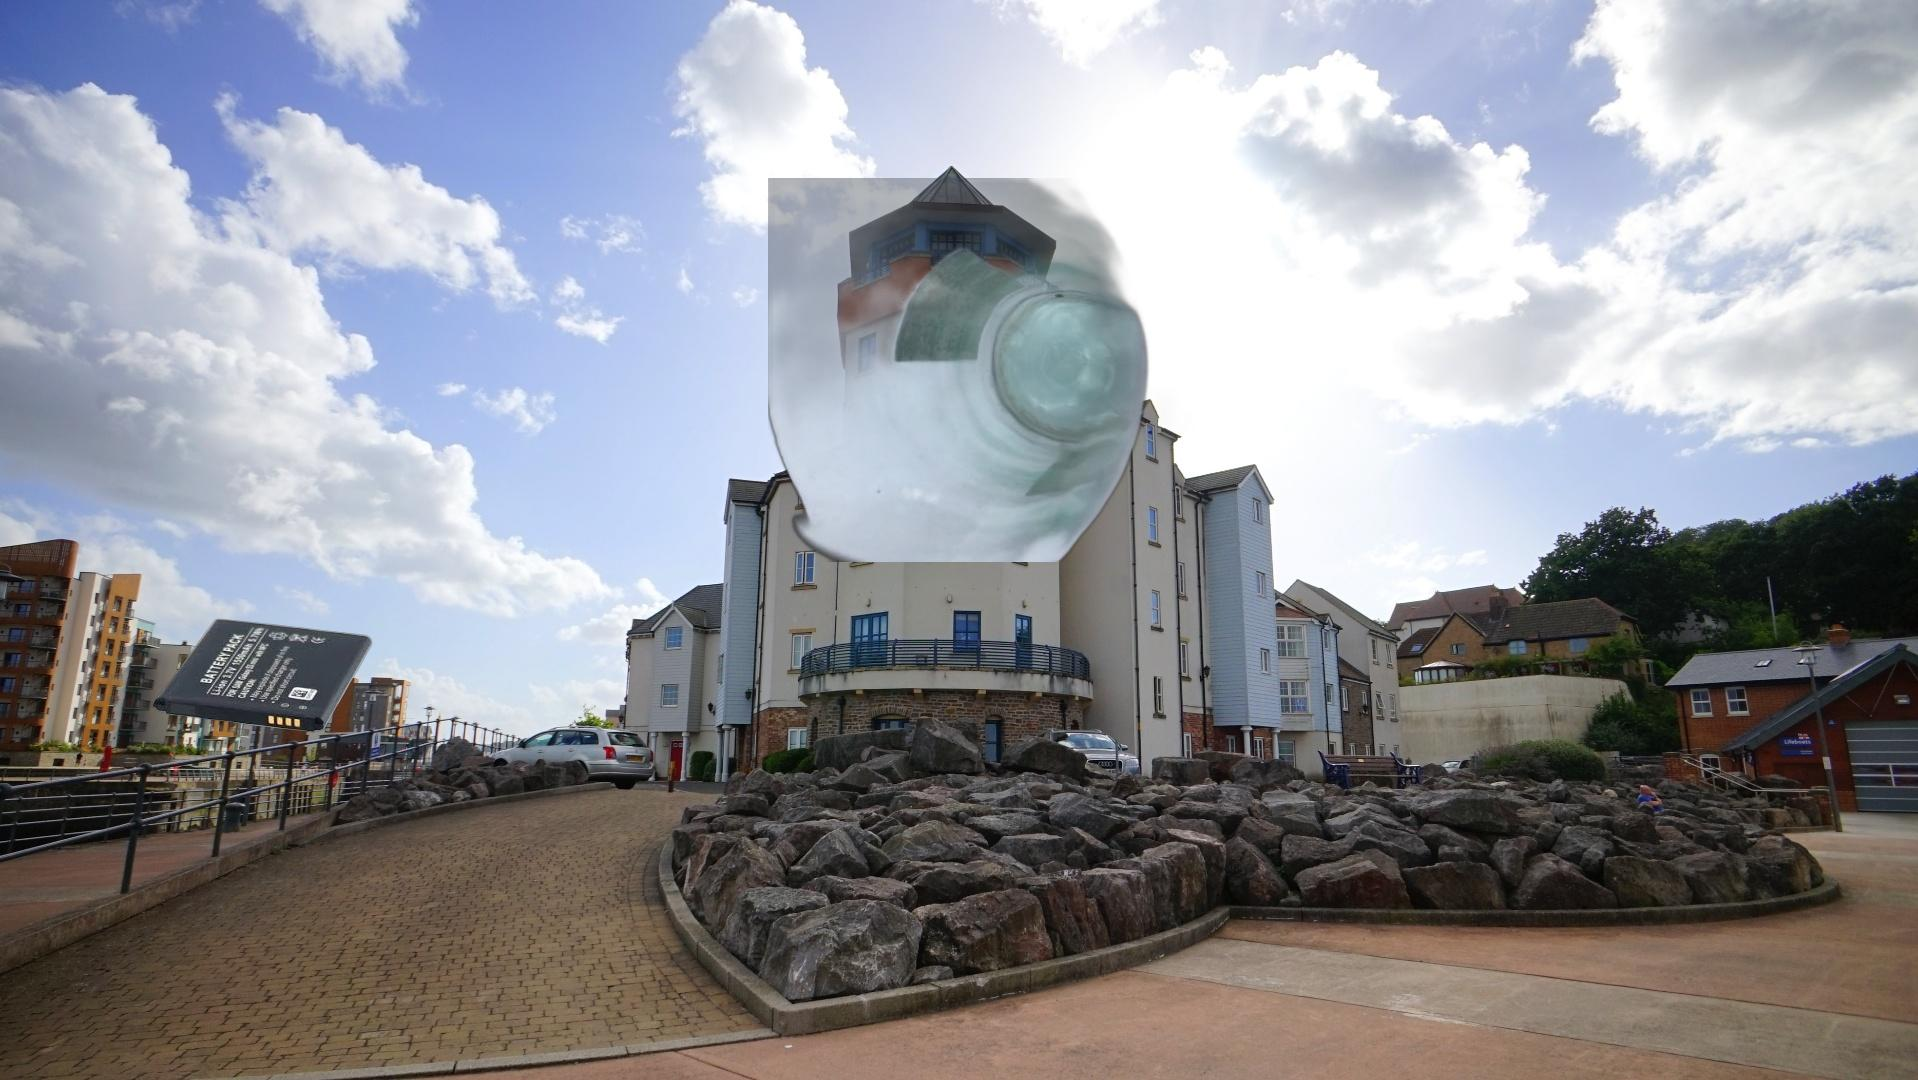battery: (149, 616, 375, 735)
glass: (768, 178, 1153, 562)
